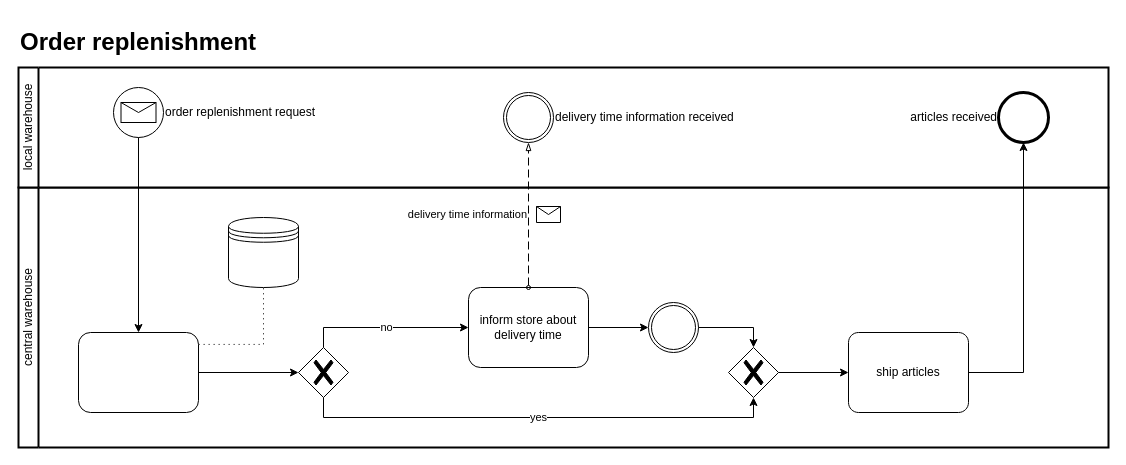
Some shapes in this 1126 by 465 pixel diagram are drawn without their labels. The centre of each missing label's shape, as x and y in pixels:
articles deliverable: (x=673, y=327)
check inventory: (x=138, y=372)
immediate delivery?: (x=323, y=372)
inventory: (x=263, y=252)
